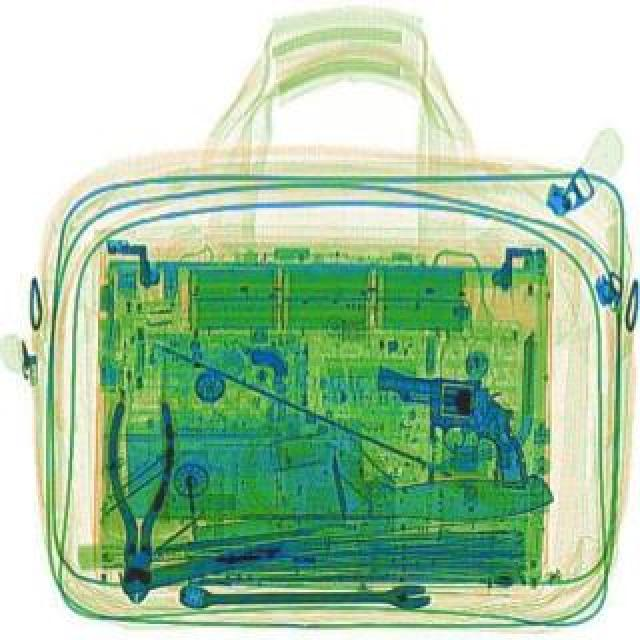gun: (368, 362, 536, 486)
knife: (124, 410, 550, 522)
scissors: (176, 578, 432, 608)
wrench: (100, 398, 176, 602)
